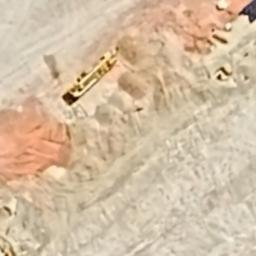others: (63, 48, 123, 104)
